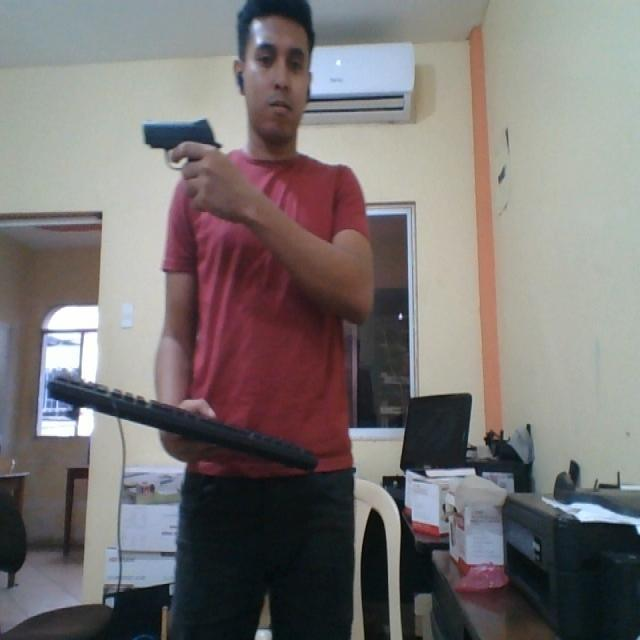weapon: (138, 115, 222, 183)
